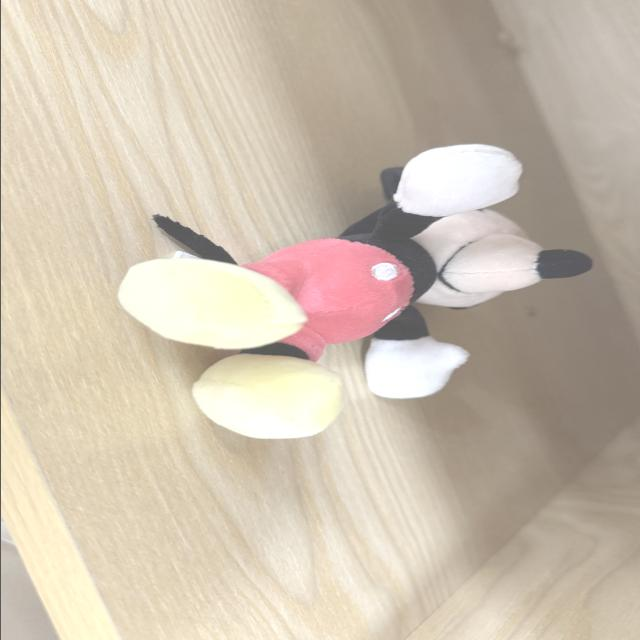mickey: (118, 145, 590, 438)
